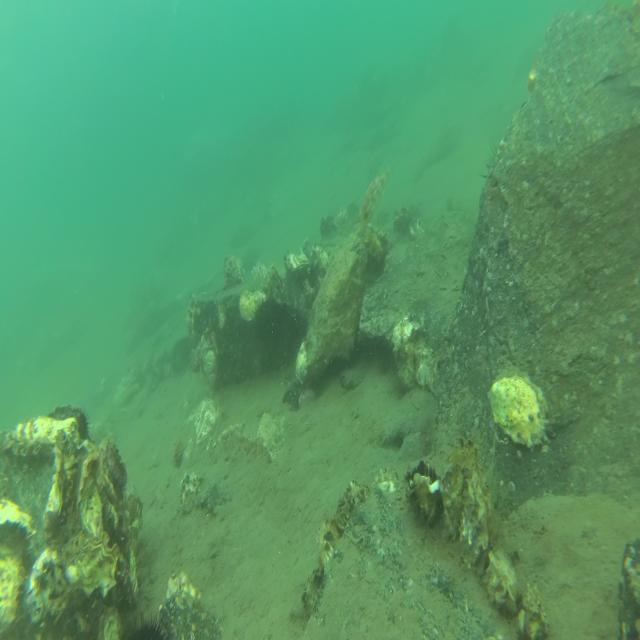echinus: (252, 292, 284, 338), (125, 612, 169, 640), (78, 410, 91, 440)
